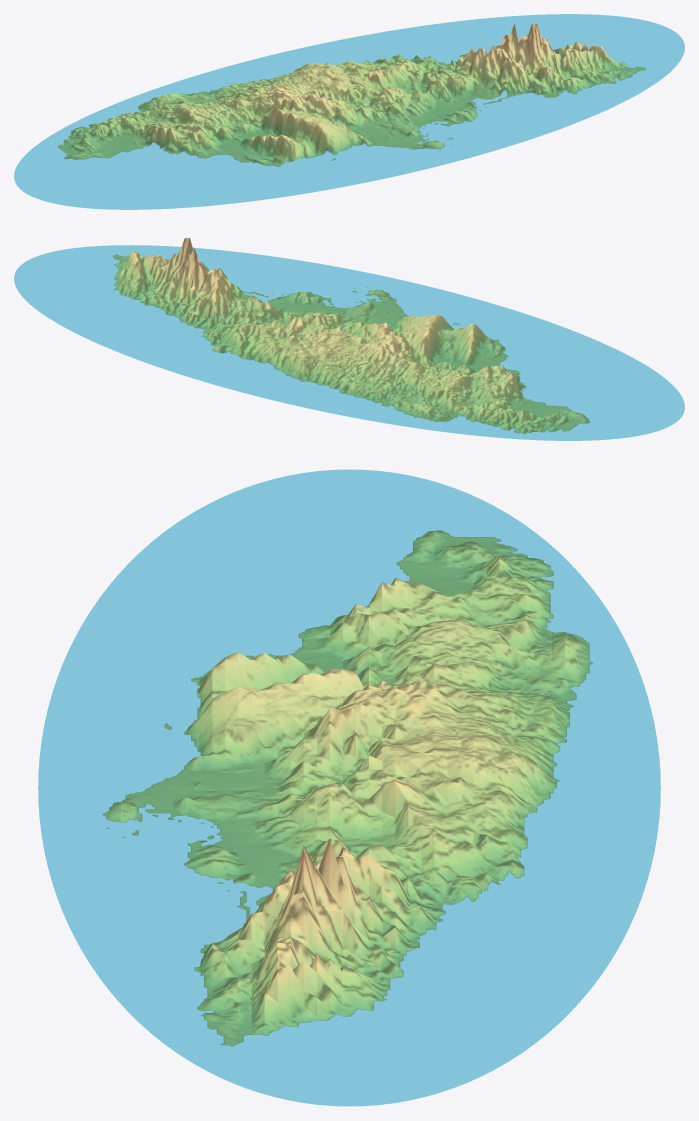
File: JAM-terrain.glb
3 views of the same model, one above another, from view 1: azimuth 30°, elevation 25°; view 2: azimuth 150°, elevation 25°; view 3: azimuth 270°, elevation 25° (orthographic). The views are drawn at different scales.
Visible parts, largest first — view 1: Relevo com hidrografia; view 2: Relevo com hidrografia; view 3: Relevo com hidrografia.
Boxes of the visible parts, box(x1,y1,x2,y2) form: Relevo com hidrografia: box(14, 14, 684, 209); Relevo com hidrografia: box(14, 238, 684, 440); Relevo com hidrografia: box(38, 469, 660, 1106).
Size of the model in its own units: 1.98 by 0.1596 by 0.8194.
2 materials, 1 textured.
